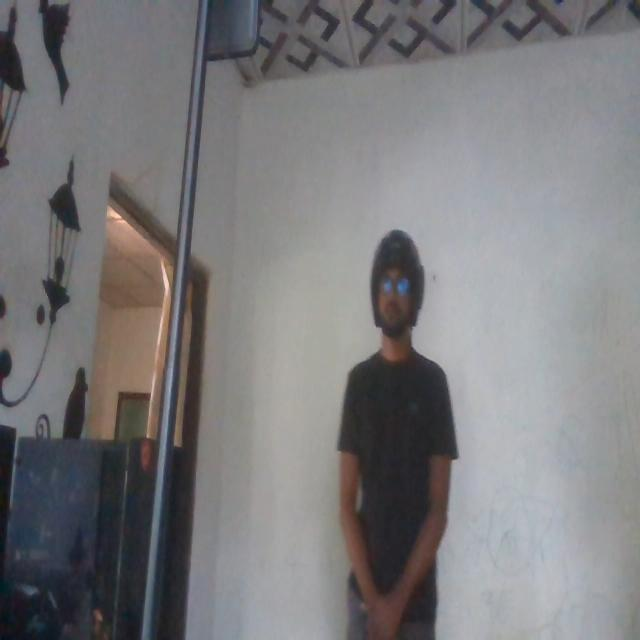Helmet_Wearer: (359, 222, 433, 369)
Person: (328, 207, 457, 640)
